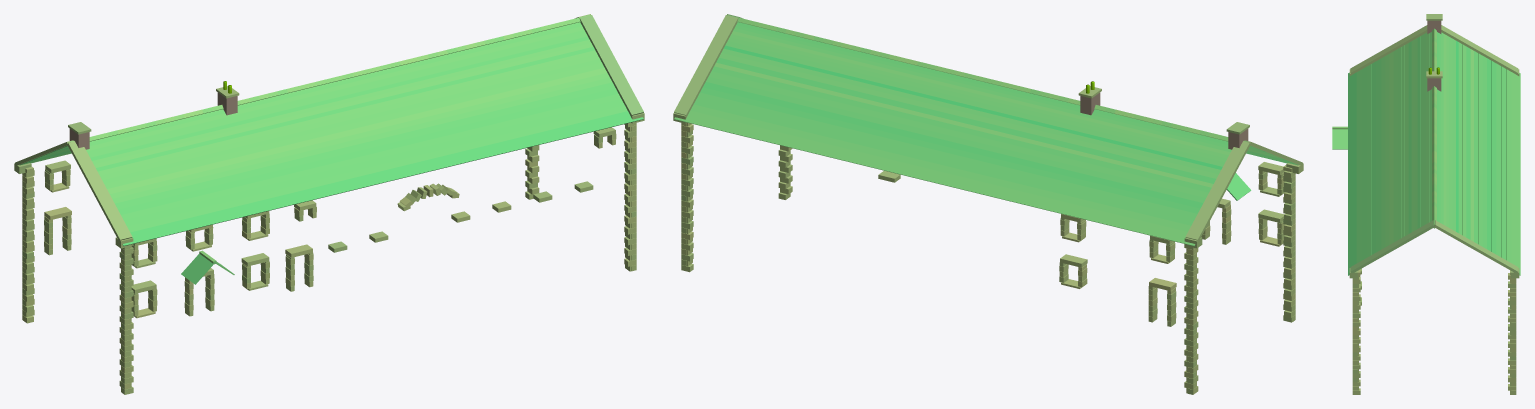
The model's file is SM_Bld_128_Stone.glb.
The picture shows the model from 3 angles, left to right: view 1: azimuth 30°, elevation 25°; view 2: azimuth 150°, elevation 25°; view 3: azimuth 270°, elevation 25°; orthographic projection. The views are drawn at different scales.
Parts seen in each view (by area): view 1: SM_Bld_128_Stone; view 2: SM_Bld_128_Stone; view 3: SM_Bld_128_Stone.
Boxes of the visible parts, <box> form: SM_Bld_128_Stone: <box>14,14,644,394</box>; SM_Bld_128_Stone: <box>673,14,1303,394</box>; SM_Bld_128_Stone: <box>1332,14,1520,394</box>.
Bounding box in the file's own units: 30.63 × 13.19 × 12.
